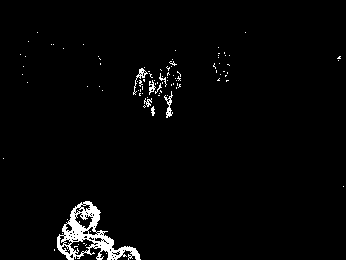person: (57, 199, 117, 260), (158, 58, 180, 117), (133, 67, 158, 116)
